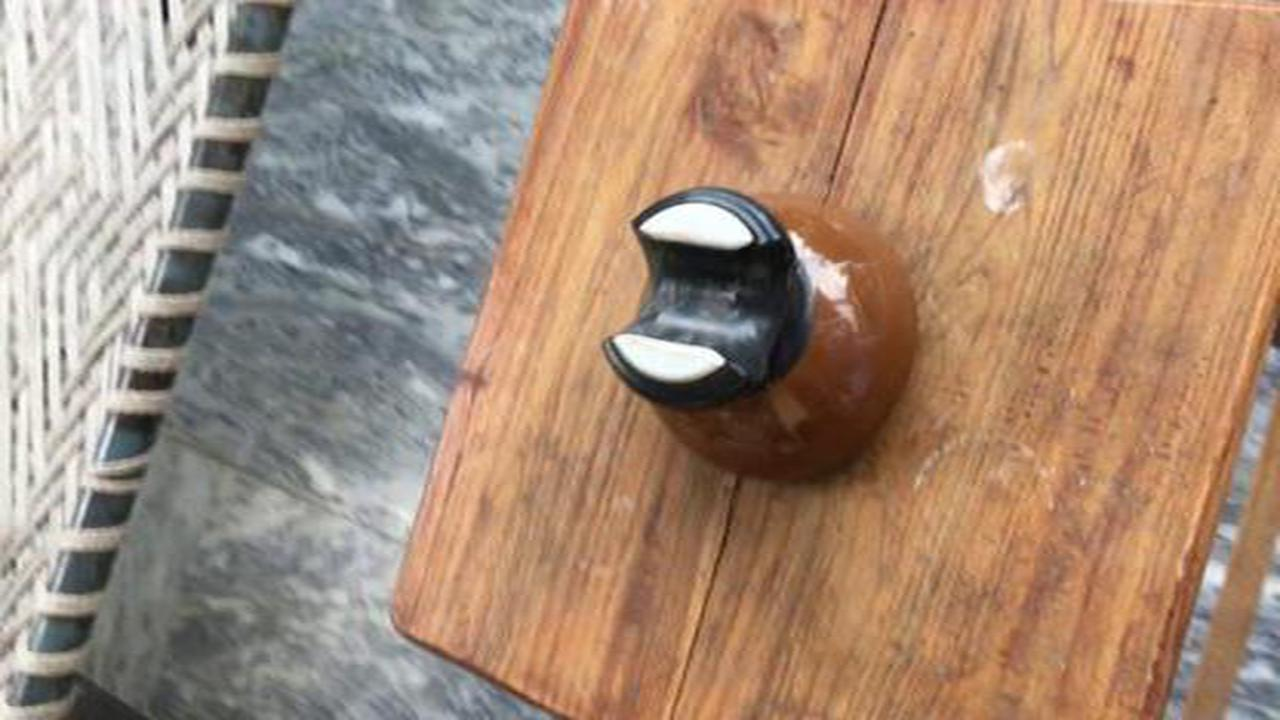insulator_pin: (585, 172, 948, 499)
